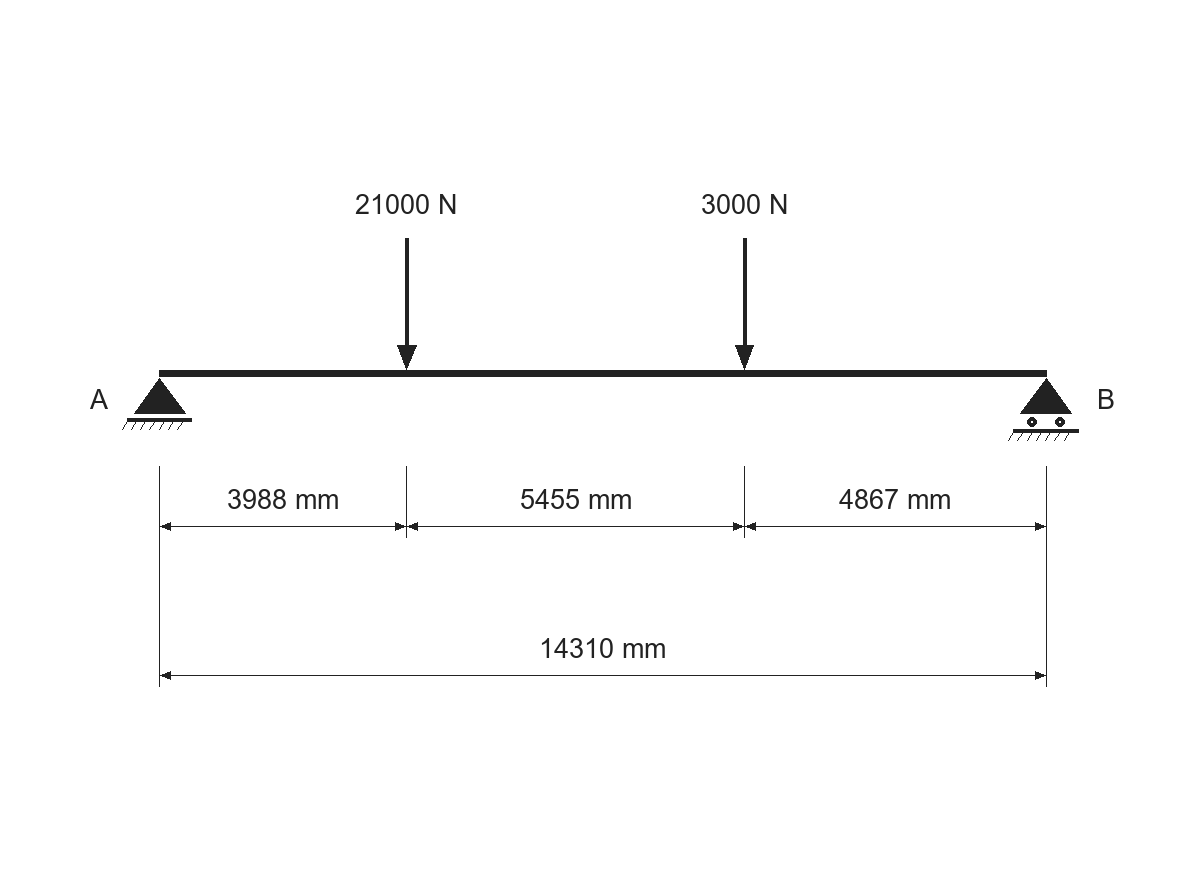pin_support: (122, 378, 192, 430)
point_load: (397, 238, 417, 370), (735, 238, 754, 370)
roller_support: (1008, 378, 1079, 441)
